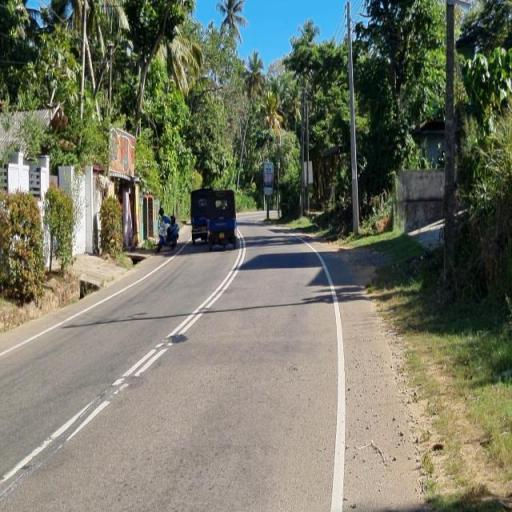double_white_line: (110, 224, 245, 394)
